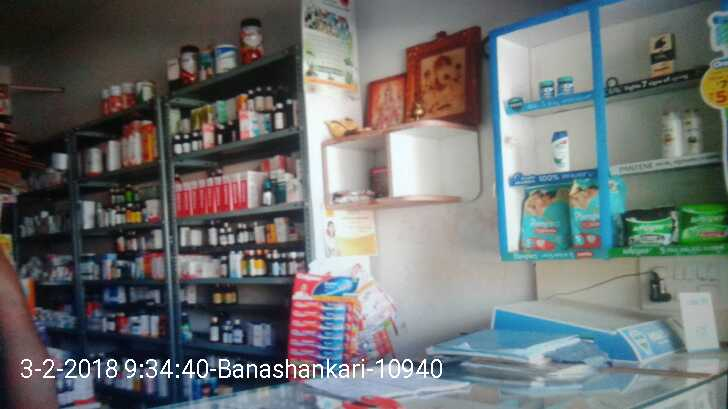beauty: (658, 109, 683, 160), (648, 33, 676, 76), (550, 128, 571, 173)
pharmacy: (516, 186, 569, 251), (569, 182, 622, 244), (621, 206, 679, 247), (677, 205, 726, 243), (535, 80, 559, 104), (556, 77, 573, 98)
